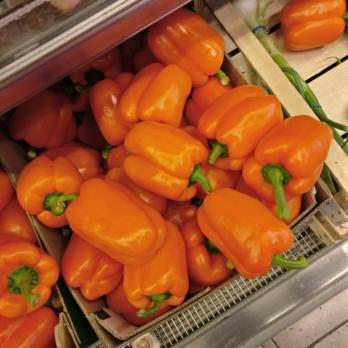Capsicum: (22, 98, 158, 323), (208, 75, 337, 278), (153, 7, 211, 291), (0, 173, 67, 348), (278, 2, 348, 53)
